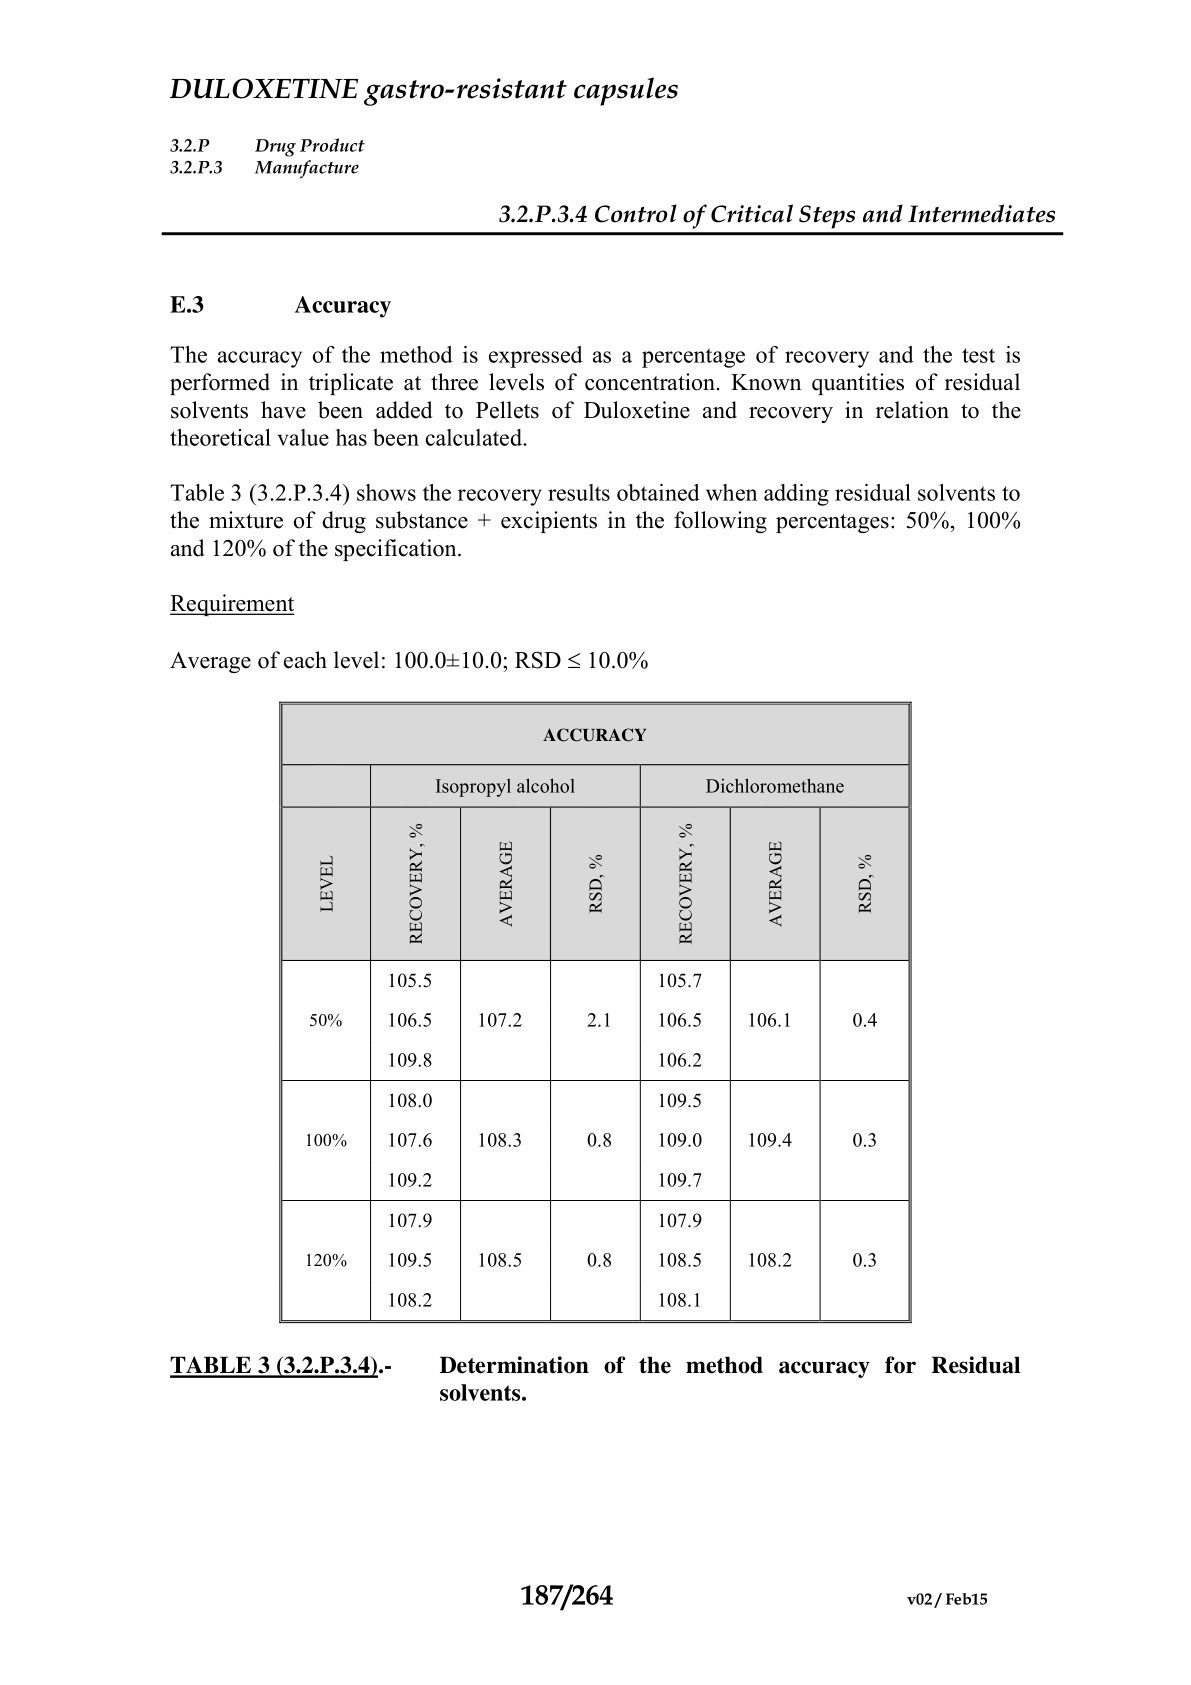full_lined: (258, 692, 925, 1336)
